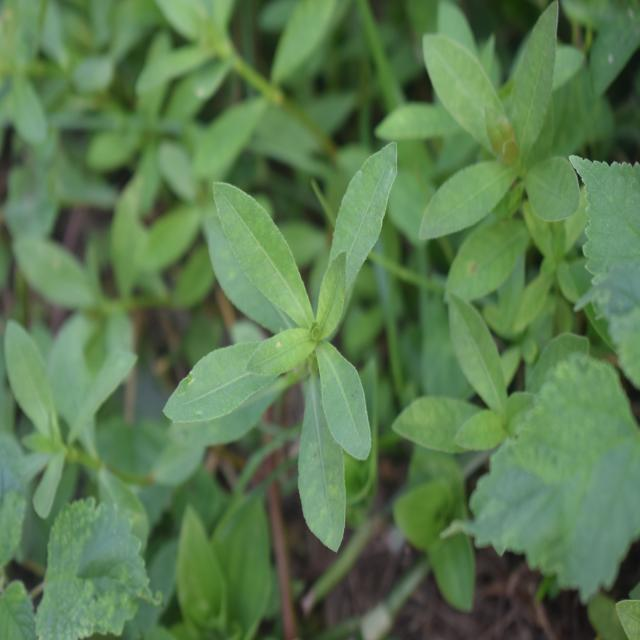Alligatorweed: (182, 140, 392, 517)
